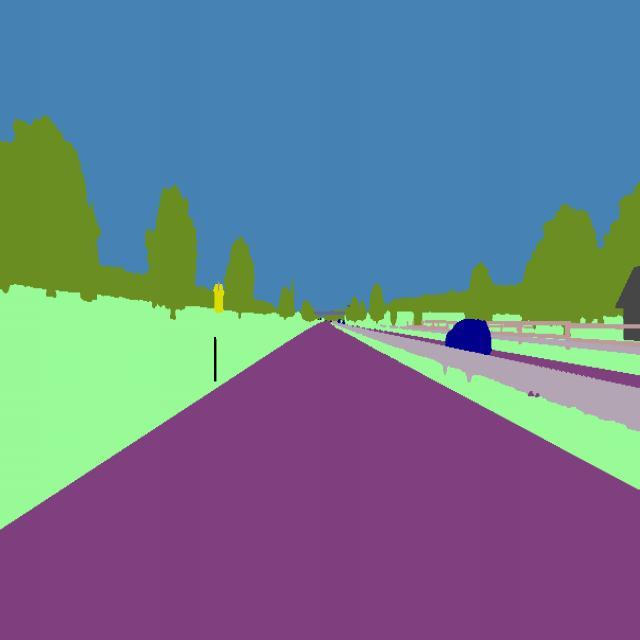safe: (442, 314, 494, 358)
